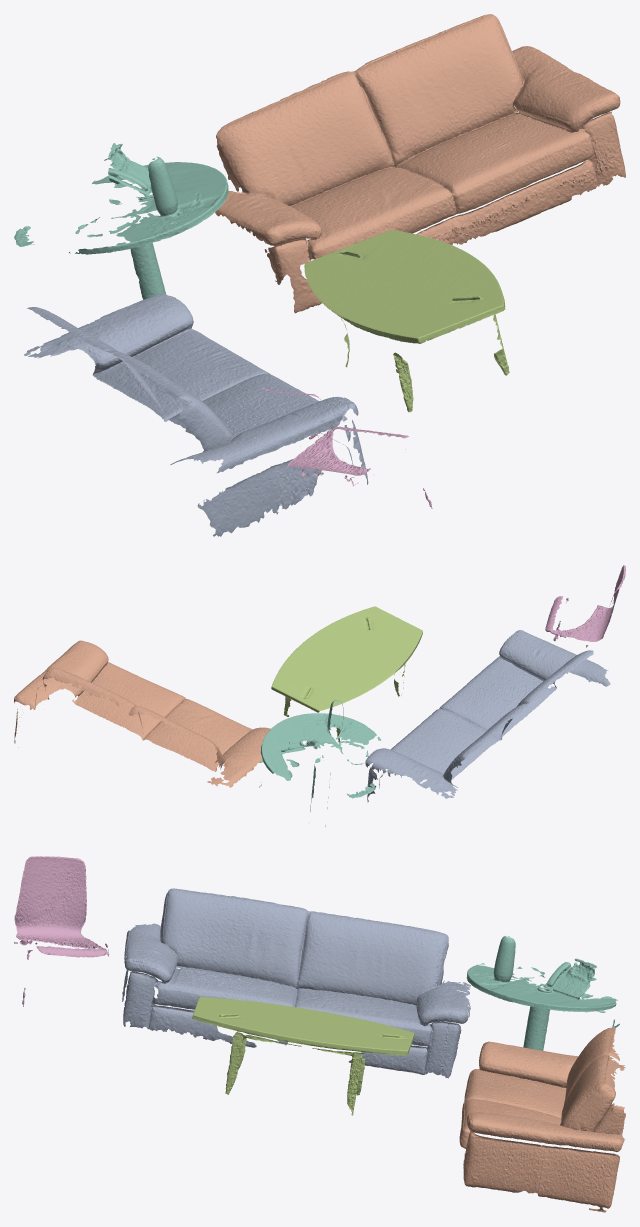
The picture shows the model from 3 angles, top to bottom: view 1: azimuth 30°, elevation 25°; view 2: azimuth 150°, elevation 25°; view 3: azimuth 270°, elevation 25°; orthographic projection. The views are drawn at different scales.
Parts seen in each view (by area): view 1: target_1_0, target_2_0, target_4_0, target_0_0, target_3_0; view 2: target_2_0, target_1_0, target_4_0, target_0_0, target_3_0; view 3: target_2_0, target_1_0, target_4_0, target_3_0, target_0_0.
Boxes of the visible parts, x1,y1,x2,y2 form: target_1_0: (215,14,625,313); target_2_0: (24,293,368,536); target_4_0: (304,230,509,412); target_0_0: (14,143,228,299); target_3_0: (260,387,432,508); target_2_0: (365,630,610,802); target_1_0: (14,640,270,787); target_4_0: (271,606,422,742); target_0_0: (259,700,386,826); target_3_0: (545,565,625,647); target_2_0: (122,888,470,1078); target_1_0: (459,1027,625,1212); target_4_0: (192,997,414,1115); target_3_0: (14,856,109,1006); target_0_0: (466,936,619,1050).
Size of the model in its own units: 0.934 by 0.3028 by 0.9637.
